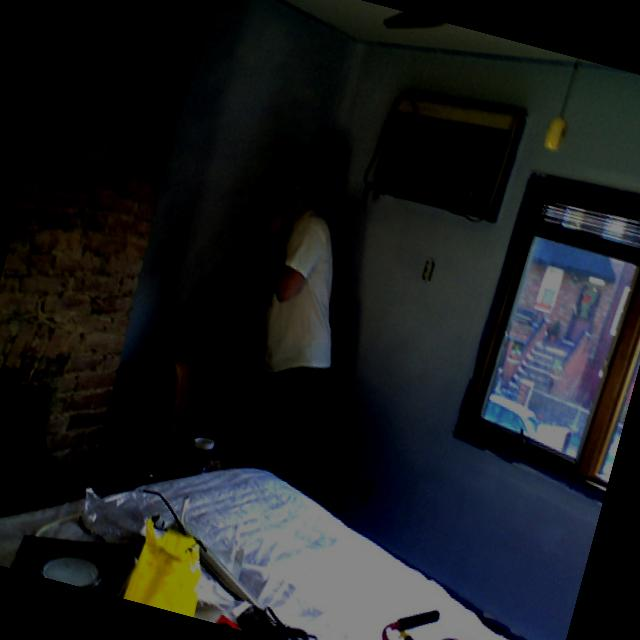Vehicle: (482, 392, 545, 438)
